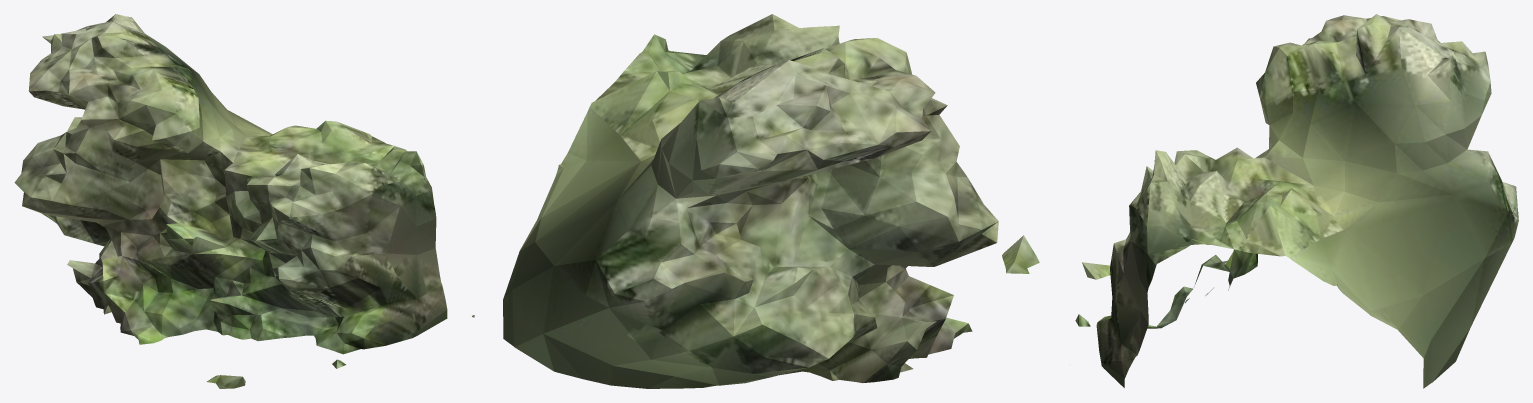
3 renders of one model, left to right at view 1: azimuth 30°, elevation 25°; view 2: azimuth 150°, elevation 25°; view 3: azimuth 270°, elevation 25°, orthographic. The views are drawn at different scales.
Size of the model in its own units: 15 by 10.99 by 17.32.
Materials: 2 (2 with a texture image).
